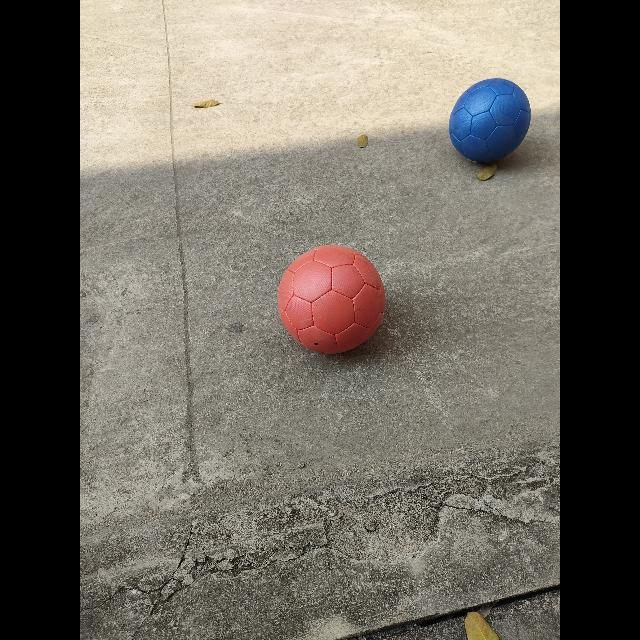B: (449, 79, 531, 162)
R: (278, 245, 385, 354)
